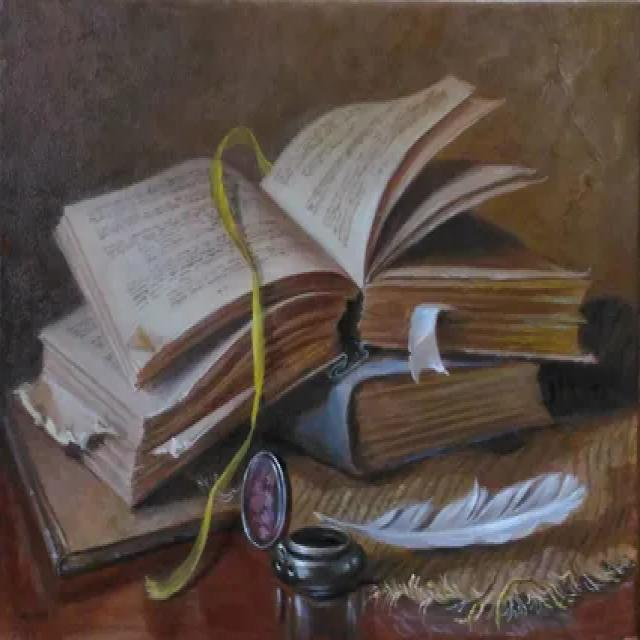book: (37, 104, 612, 387)
